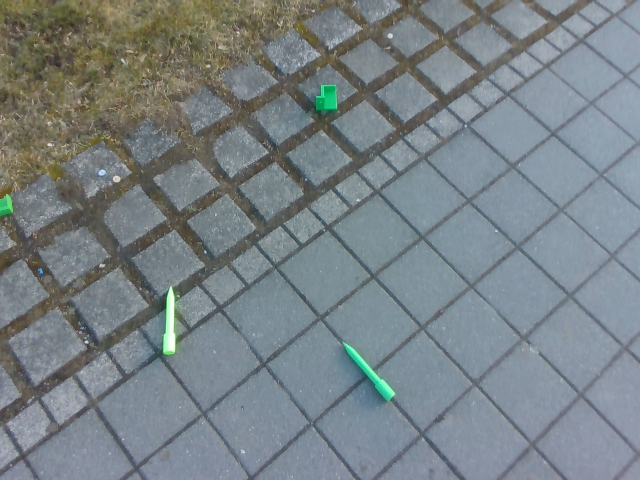Probe: (338, 335, 399, 403), (157, 281, 178, 356)
